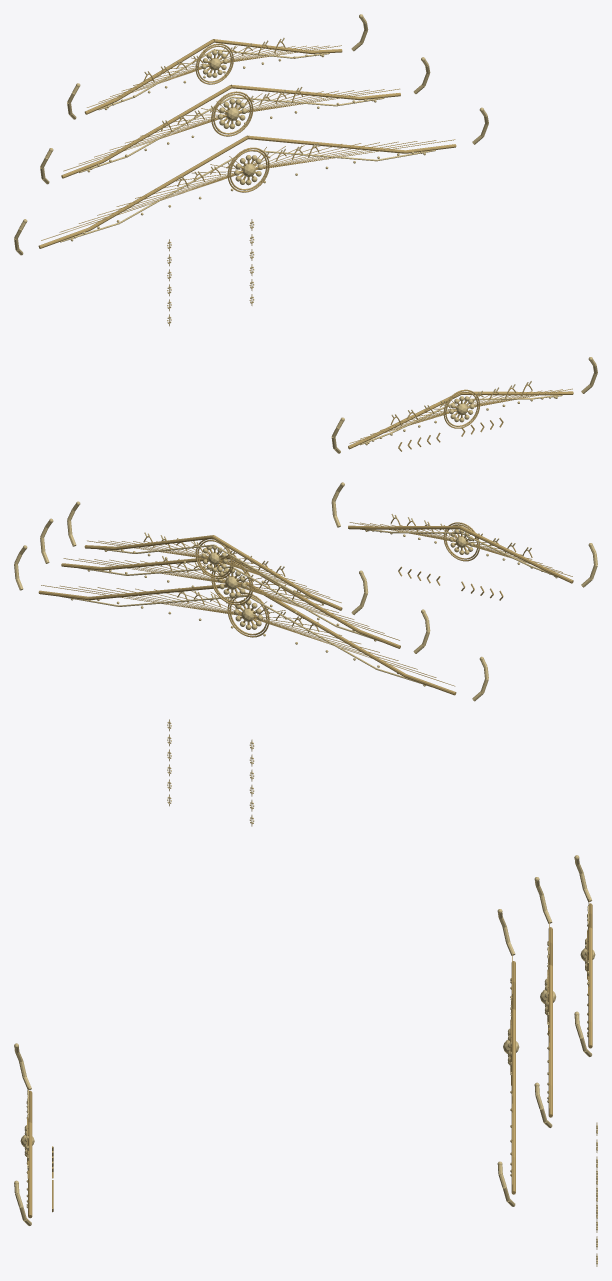
File: temple-ornaments.glb
3 renders of one model, top to bottom at view 1: azimuth 30°, elevation 25°; view 2: azimuth 150°, elevation 25°; view 3: azimuth 270°, elevation 25°, orthographic. The views are drawn at different scales.
Parts seen in each view (by area): view 1: ornament_gold, ornament_lightgold; view 2: ornament_gold, ornament_lightgold; view 3: ornament_gold, ornament_lightgold.
Boxes of the visible parts, left/top/right/bottom form: ornament_gold: left=38, top=39, right=573, bottom=451; ornament_lightgold: left=14, top=14, right=597, bottom=453; ornament_gold: left=38, top=517, right=573, bottom=826; ornament_lightgold: left=14, top=482, right=597, bottom=824; ornament_gold: left=26, top=899, right=597, bottom=1266; ornament_lightgold: left=14, top=855, right=597, bottom=1264.
Size of the model in its own units: 21.83 by 12.27 by 20.53.
